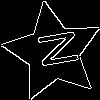N: (27, 27, 80, 72)
